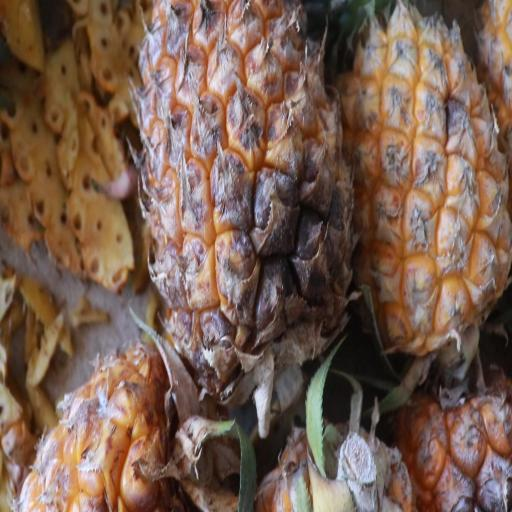Pineapple - v8 v1: (129, 0, 359, 413), (334, 0, 512, 359)
